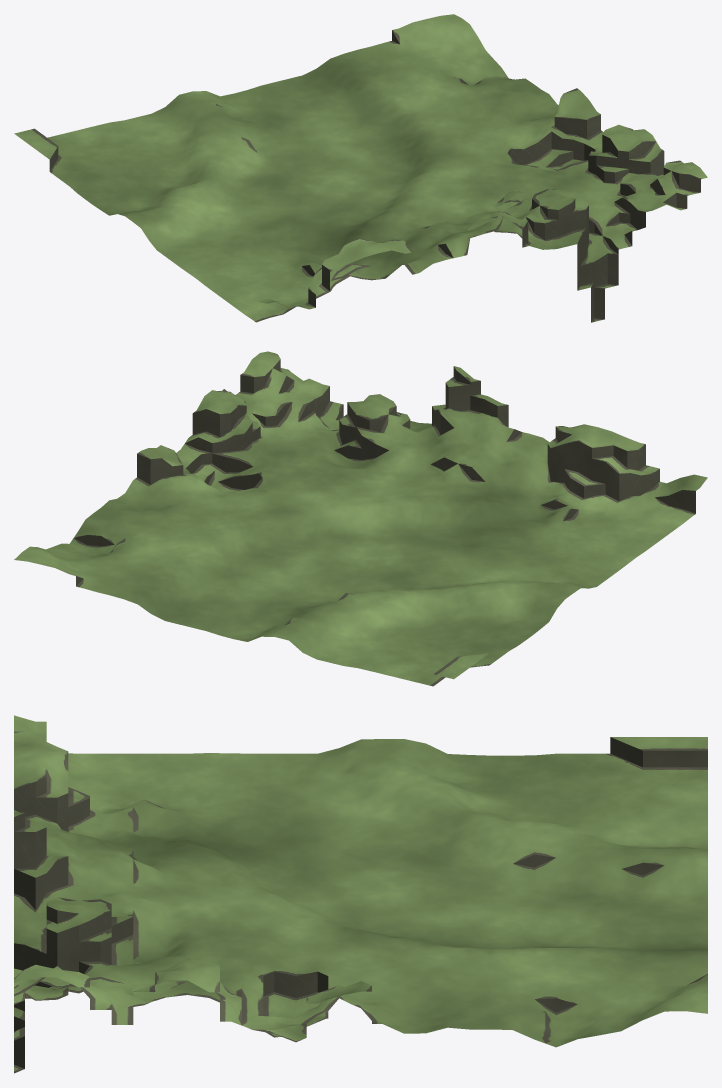
Rendered from Chunk(0,0).glb.
The picture shows the model from 3 angles, top to bottom: view 1: azimuth 30°, elevation 25°; view 2: azimuth 150°, elevation 25°; view 3: azimuth 270°, elevation 25°; orthographic projection. The views are drawn at different scales.
Bounding box in the file's own units: 64 × 20.49 × 64.
Materials: 1 (1 with a texture image).
